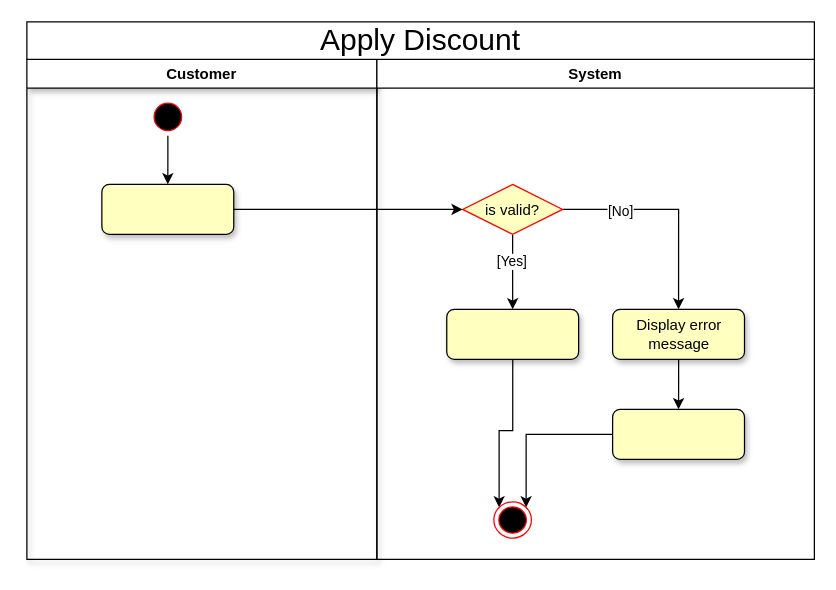
Some shapes in this 836 by 590 pixel diagram are drawn without their labels. Each missing label, with the centre of its shape:
"enter promo code" goes at (x=168, y=210).
"keep item price" goes at (x=679, y=435).
"update item price" goes at (x=513, y=335).
